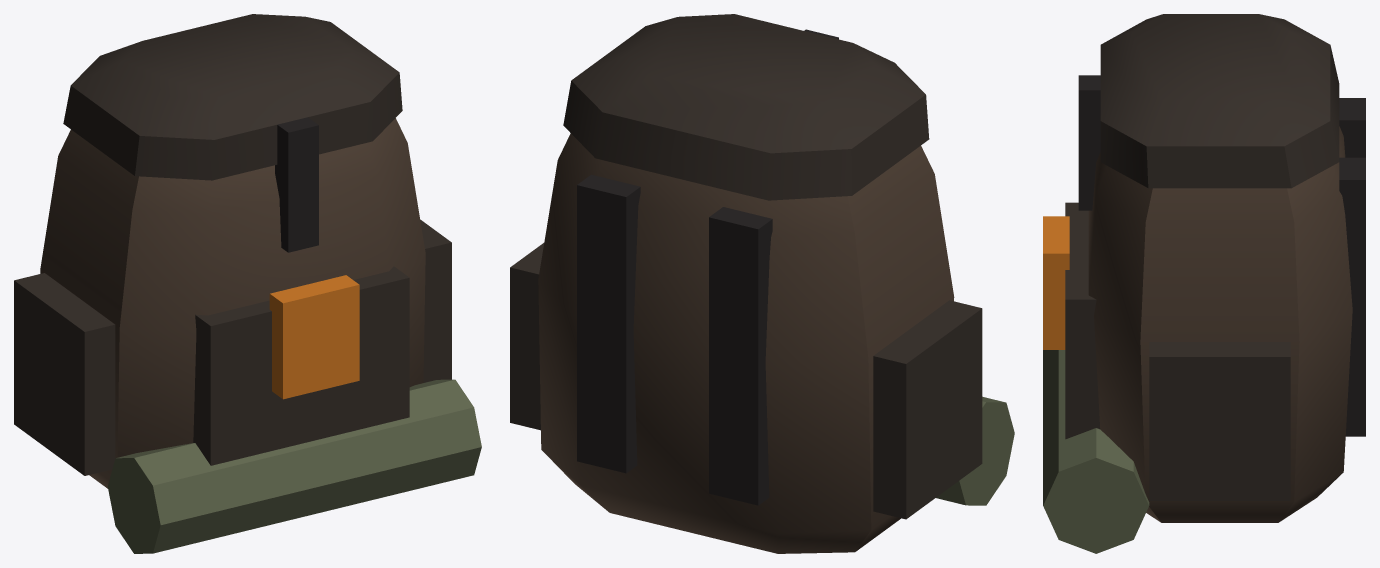
The model's file is backpack.glb.
3 views of the same model, side by side, from view 1: azimuth 30°, elevation 25°; view 2: azimuth 150°, elevation 25°; view 3: azimuth 270°, elevation 25° (orthographic). The views are drawn at different scales.
Parts seen in each view (by area): view 1: Backpack, Flap; view 2: Backpack, Flap; view 3: Backpack, Flap.
Boxes of the visible parts, <box> form: Backpack: <box>14,118,481,553</box>; Flap: <box>63,14,402,252</box>; Backpack: <box>510,133,1014,553</box>; Flap: <box>563,14,929,200</box>; Backpack: <box>1043,98,1365,553</box>; Flap: <box>1078,14,1339,210</box>.
Size of the model in its own units: 0.48 by 0.52 by 0.365.
